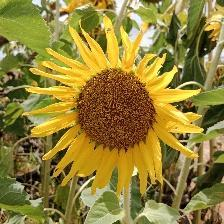sunflower: (44, 30, 194, 191)
